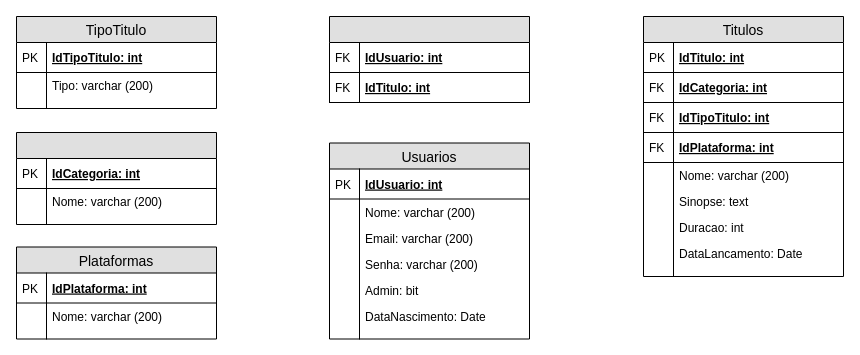
This 860x355 diagram has some shape labels left out. Here are the shapes that lost their labels. From the top down, the box of each, then its label:
(328, 16, 530, 102): Favoritos
(16, 132, 216, 224): Categorias
